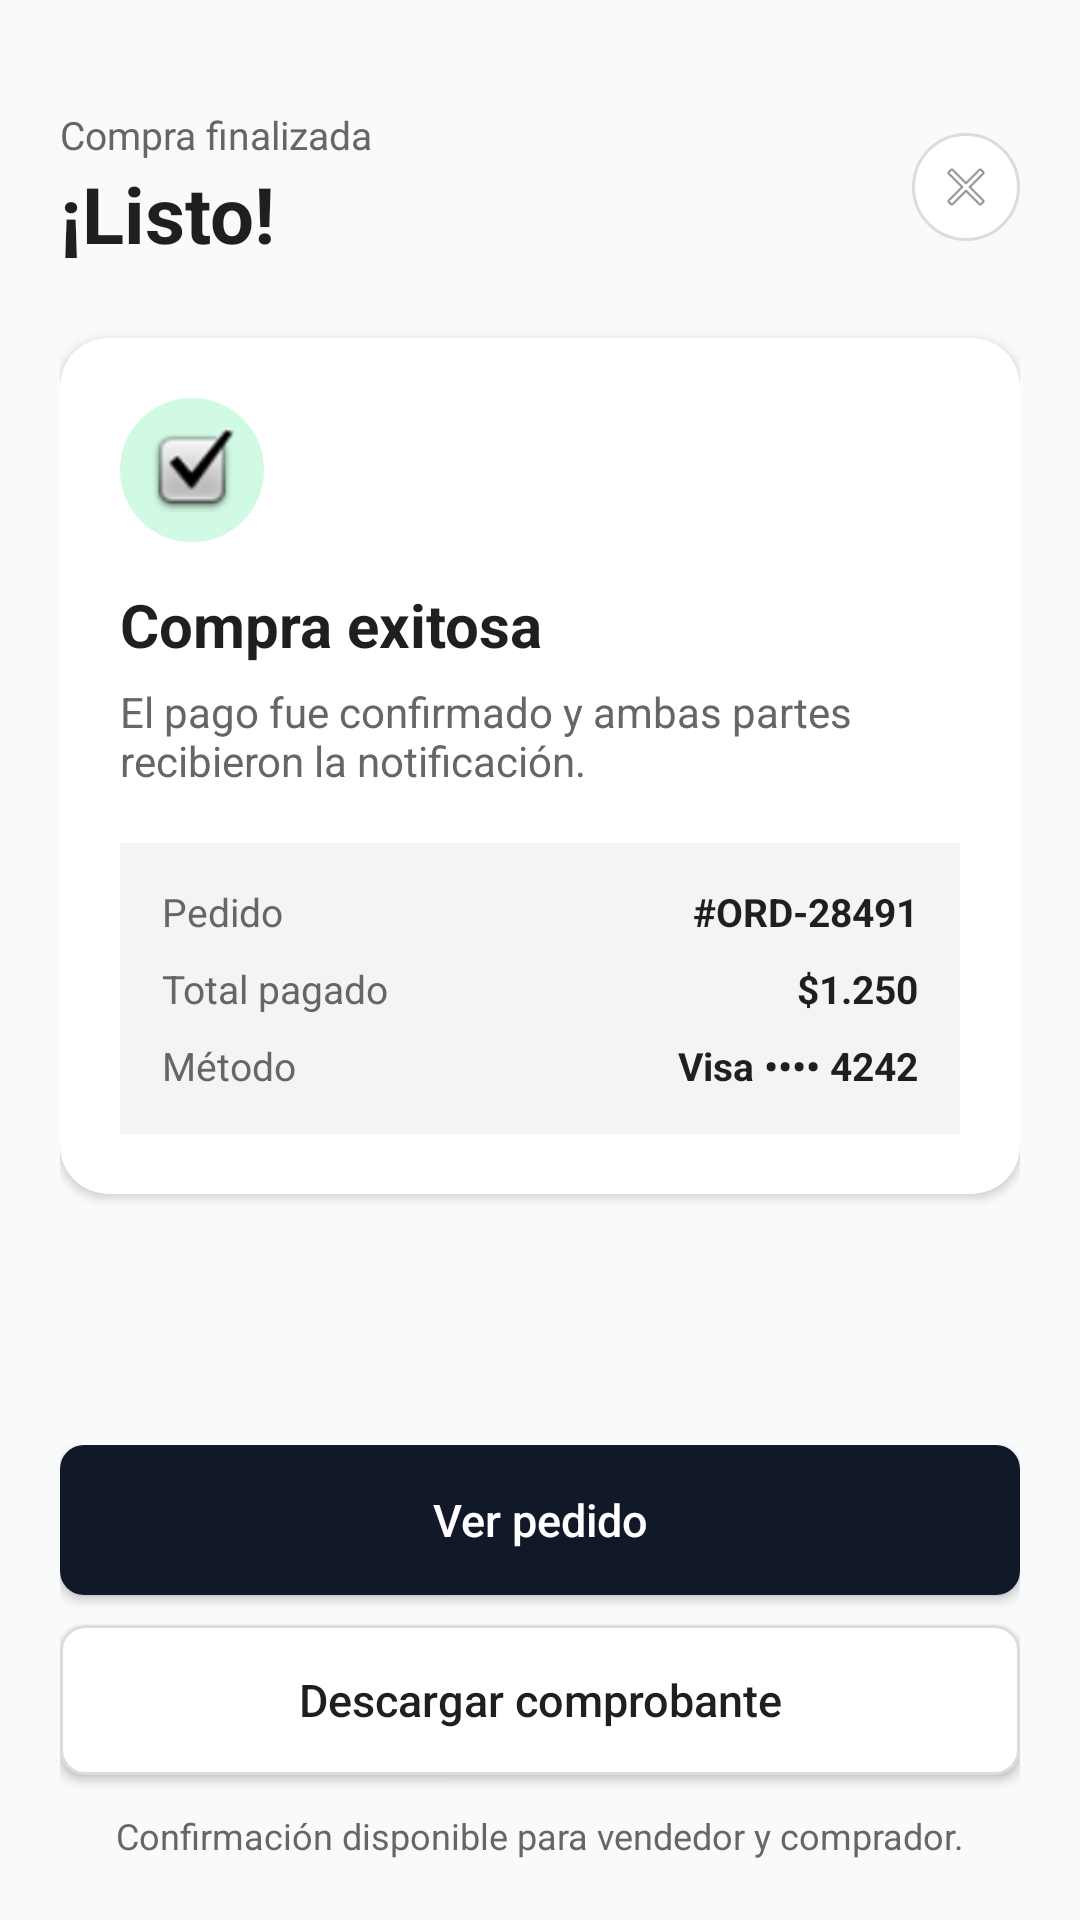

Screen size 1080 x 1920. Icon name, then its box in pixels as (x1, y1, x2, y2):
close clear cancel: (912, 133, 1020, 241)
